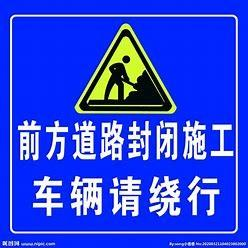sign: (7, 12, 242, 238)
